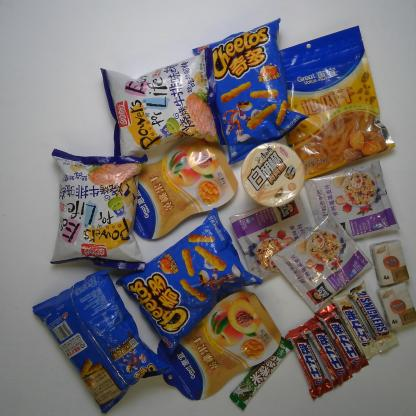Chocolate: (228, 335, 294, 411), (282, 324, 333, 402), (314, 303, 371, 372), (349, 280, 401, 353), (302, 315, 352, 388), (330, 292, 382, 359)
Dried Fruit: (280, 23, 397, 180), (150, 290, 283, 399), (132, 134, 246, 240)
Instant Drink: (269, 214, 373, 314), (300, 160, 402, 241), (227, 200, 317, 282)
Instant Noodles: (240, 142, 307, 210)
Puffed Food: (112, 206, 262, 349), (30, 267, 173, 414), (189, 19, 311, 170), (98, 48, 226, 165), (47, 148, 150, 274)
Tissue: (376, 282, 415, 332), (369, 240, 412, 285)
